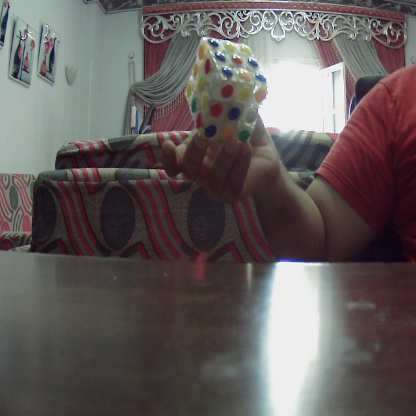Rubix Cube: (185, 41, 262, 141)
